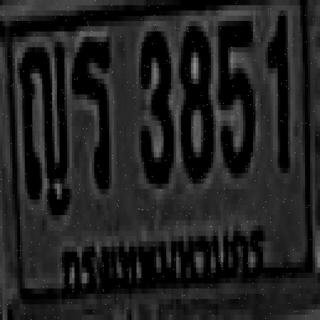A13: (19, 40, 66, 192)
A35: (69, 37, 109, 184)
N01: (265, 8, 285, 165)
N03: (139, 26, 171, 178)
N05: (216, 13, 253, 170)
N08: (179, 18, 211, 176)
P04: (54, 221, 270, 295)
